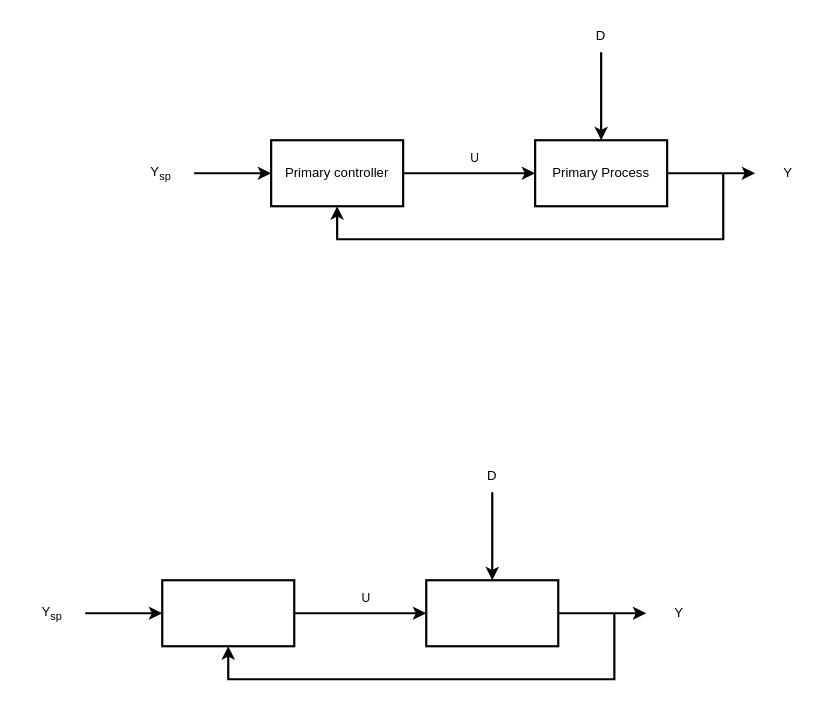
Image size: 839x707. Some labels were removed from this diagram. The shapes that lost their labels are listed below. From the top down, each one's box as (x1, y1, x2, y2) in pixels, then its label:
(161, 579, 295, 647): Secondary controller
(425, 579, 559, 647): Secondary Process
